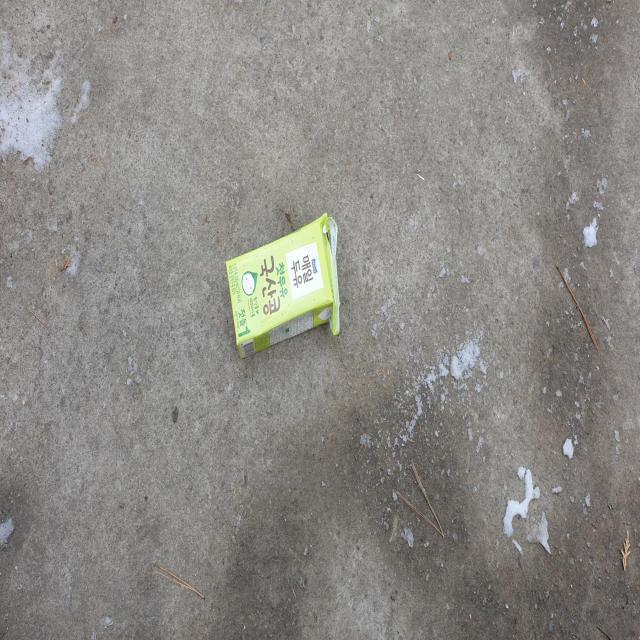paperpack: (226, 212, 340, 357)
